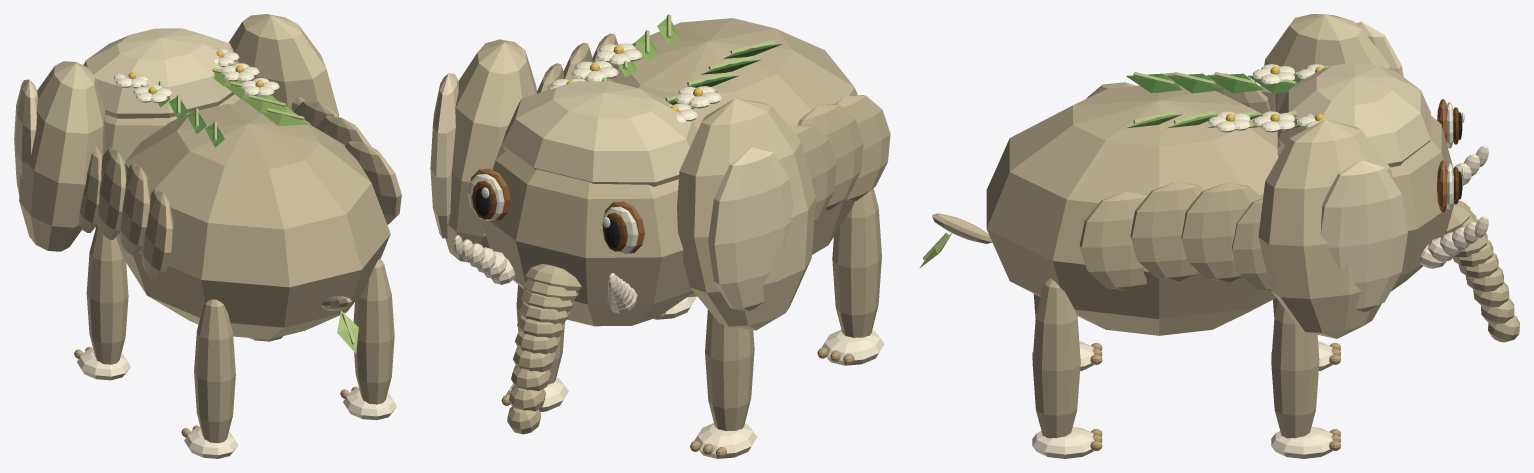
Rendered from RockElephant_A_S3.obj.
The picture shows the model from 3 angles, left to right: view 1: azimuth 30°, elevation 25°; view 2: azimuth 150°, elevation 25°; view 3: azimuth 270°, elevation 25°; orthographic projection. The views are drawn at different scales.
Parts seen in each view (by area): view 1: Body, LeftEar, Forehead, RightEar, LeftBackLeg, LeftFrontLeg, RightBackLeg, StonePlate_6, StonePlate_4, StonePlate_2, StonePlate_7, Head (+9 smaller); view 2: Head, Forehead, LeftEar, Body, LeftEarInner, RightEar, LeftBackLeg, LeftFrontLeg, RightEarInner, StonePlate_4, StonePlate_6, StonePlate_2 (+19 smaller); view 3: Body, RightEar, Forehead, RightEarInner, RightBackLeg, Head, RightFrontLeg, StonePlate_3, LeftEar, StonePlate_5, StonePlate_7, StonePlate_1 (+5 smaller).
Boxes of the visible parts, x1,y1,x2,y2 form: Body: (116,104,390,339); LeftEar: (19,61,105,251); Forehead: (83,28,238,118); RightEar: (228,14,338,116); LeftBackLeg: (194,299,235,443); LeftFrontLeg: (86,225,128,364); RightBackLeg: (353,258,394,404); StonePlate_6: (141,189,173,280); StonePlate_4: (119,163,150,255); StonePlate_2: (97,148,126,239); StonePlate_7: (344,141,401,224); Head: (104,94,250,161); Head: (481,145,693,326); Forehead: (501,81,697,186); LeftEar: (677,98,815,330); Body: (585,18,857,297); LeftEarInner: (708,147,793,310); RightEar: (445,39,537,262); LeftBackLeg: (832,188,881,337); LeftFrontLeg: (705,310,754,431); RightEarInner: (430,73,458,238); StonePlate_4: (797,104,863,210); StonePlate_6: (835,95,890,201); StonePlate_2: (789,124,836,221); Body: (986,85,1278,335); RightEar: (1258,120,1393,338); Forehead: (1278,62,1430,167); RightEarInner: (1320,160,1407,311); RightBackLeg: (1032,278,1080,438); Head: (1277,115,1454,291); RightFrontLeg: (1271,300,1319,438); StonePlate_3: (1181,182,1261,282); LeftEar: (1264,14,1391,112); StonePlate_5: (1130,181,1203,281); StonePlate_7: (1079,191,1147,291); StonePlate_1: (1231,198,1271,291).
Size of the model in its own units: 12.7 by 12.58 by 19.89.
